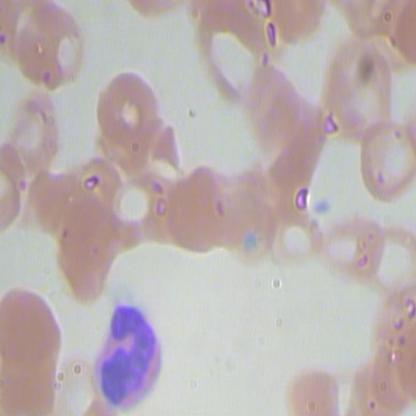RBC: (91, 60, 162, 153), (13, 1, 84, 93), (53, 201, 114, 306), (322, 198, 389, 289), (8, 88, 74, 179), (166, 163, 232, 253), (239, 64, 305, 154), (349, 114, 415, 204), (1, 285, 64, 373), (268, 199, 325, 272), (286, 360, 343, 415)
WBC: (89, 298, 177, 408)
